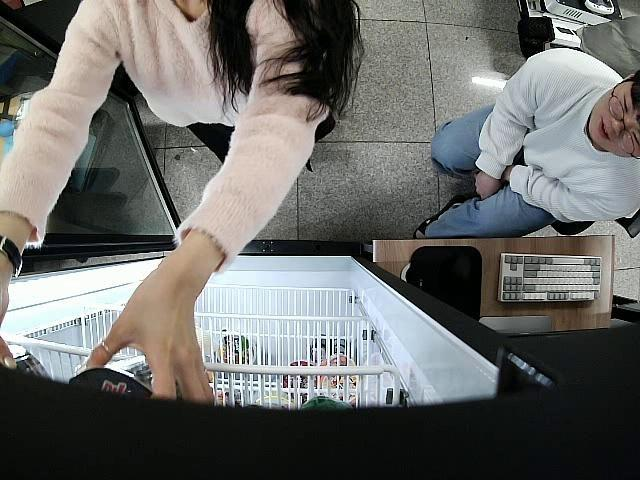07_buldak_L: (64, 364, 158, 406)
